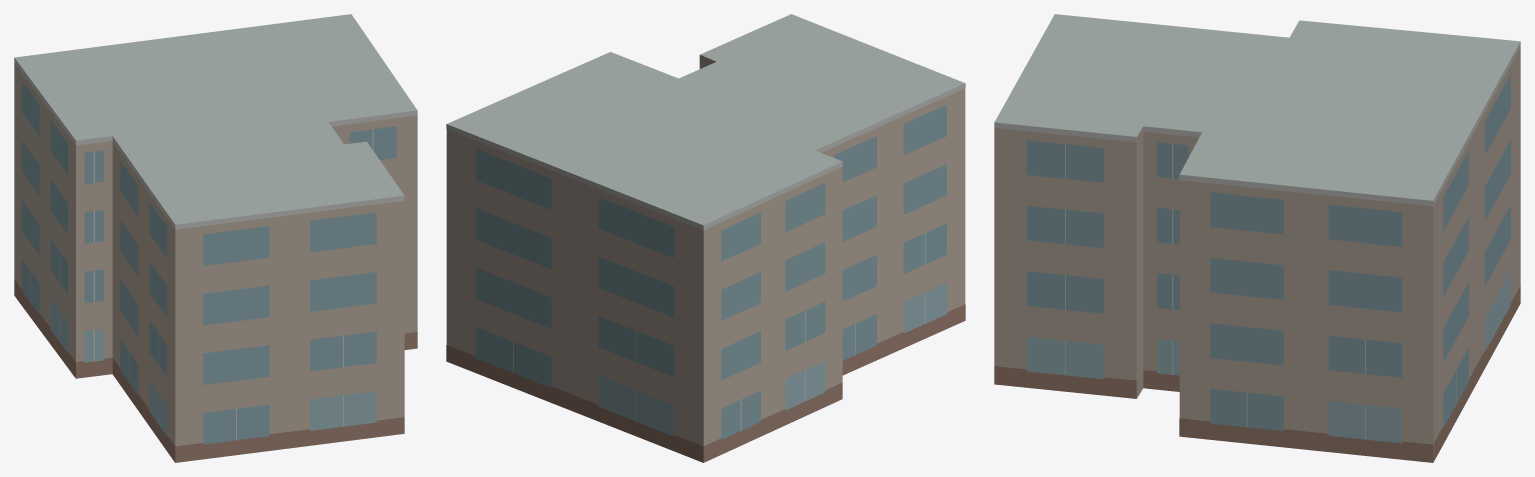
File: survey-upis-32830303.glb
The picture shows the model from 3 angles, left to right: view 1: azimuth 30°, elevation 25°; view 2: azimuth 150°, elevation 25°; view 3: azimuth 270°, elevation 25°; orthographic projection. The views are drawn at different scales.
Parts seen in each view (by area): view 1: survey-upis-32830303.tmp; view 2: survey-upis-32830303.tmp; view 3: survey-upis-32830303.tmp.
Part boxes in pixels (<box>): survey-upis-32830303.tmp: <box>14,14,417,462</box>; survey-upis-32830303.tmp: <box>446,14,965,462</box>; survey-upis-32830303.tmp: <box>994,14,1520,462</box>.
Size of the model in its own units: 17.76 by 11.6 by 21.13.
